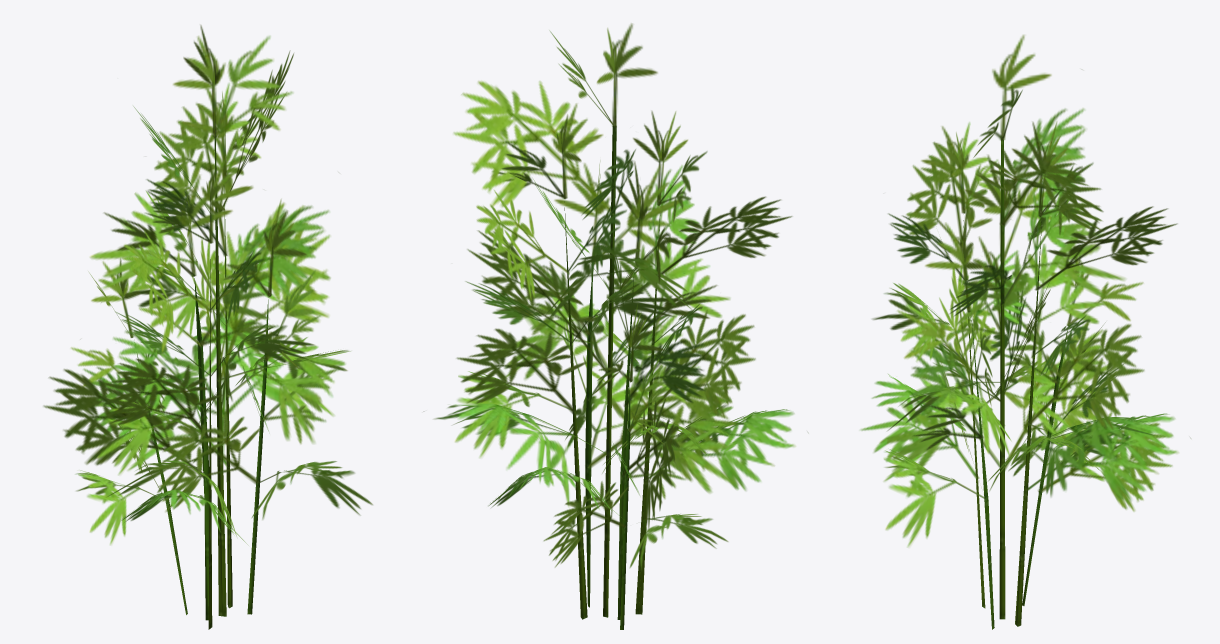
The model's file is bamboo-clump.lod0.glb.
The picture shows the model from 3 angles, left to right: view 1: azimuth 30°, elevation 25°; view 2: azimuth 150°, elevation 25°; view 3: azimuth 270°, elevation 25°; orthographic projection. The views are drawn at different scales.
Parts seen in each view (by area): view 1: Object_2; view 2: Object_2; view 3: Object_2.
Part boxes in pixels (<box>): Object_2: <box>43,25,372,629</box>; Object_2: <box>434,23,807,629</box>; Object_2: <box>860,35,1190,629</box>.
Bounding box in the file's own units: 2.76 × 5 × 2.78.
Materials: 1 (1 with a texture image).
